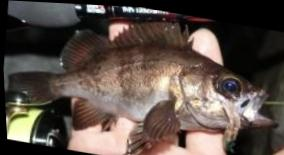fish: (9, 16, 279, 152)
